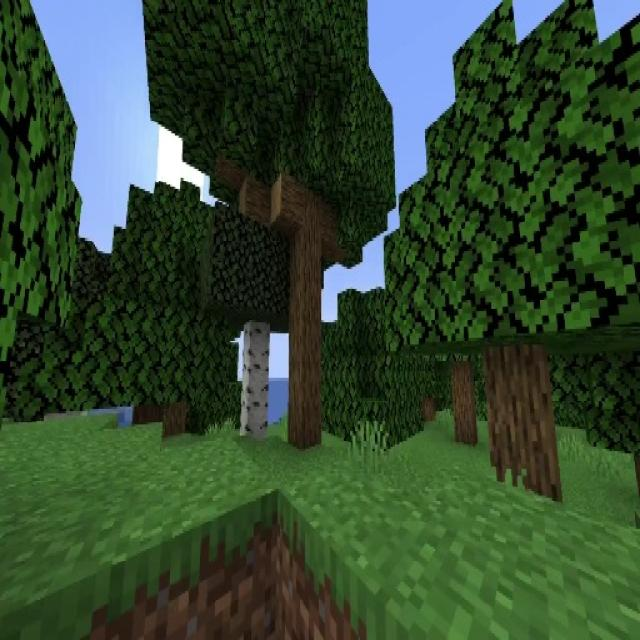birch: (204, 189, 312, 440)
birch_log: (243, 324, 270, 439)
oak: (386, 52, 640, 504), (142, 0, 388, 455)
oak_log: (484, 348, 562, 507), (289, 186, 323, 446), (453, 363, 477, 445), (163, 403, 186, 439)
